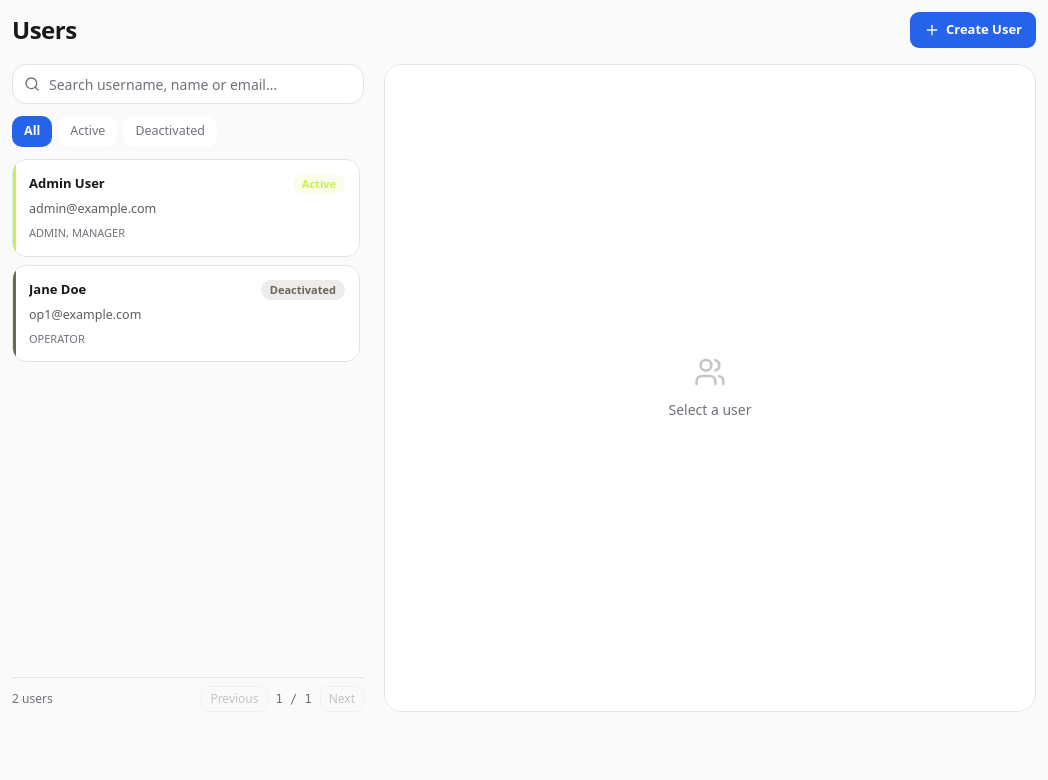
Test: UsersPage › deactivate action is reachable in the pane
Click the button with test id "user-row-uuid-1" at (67, 183), box [12,159,360,257]
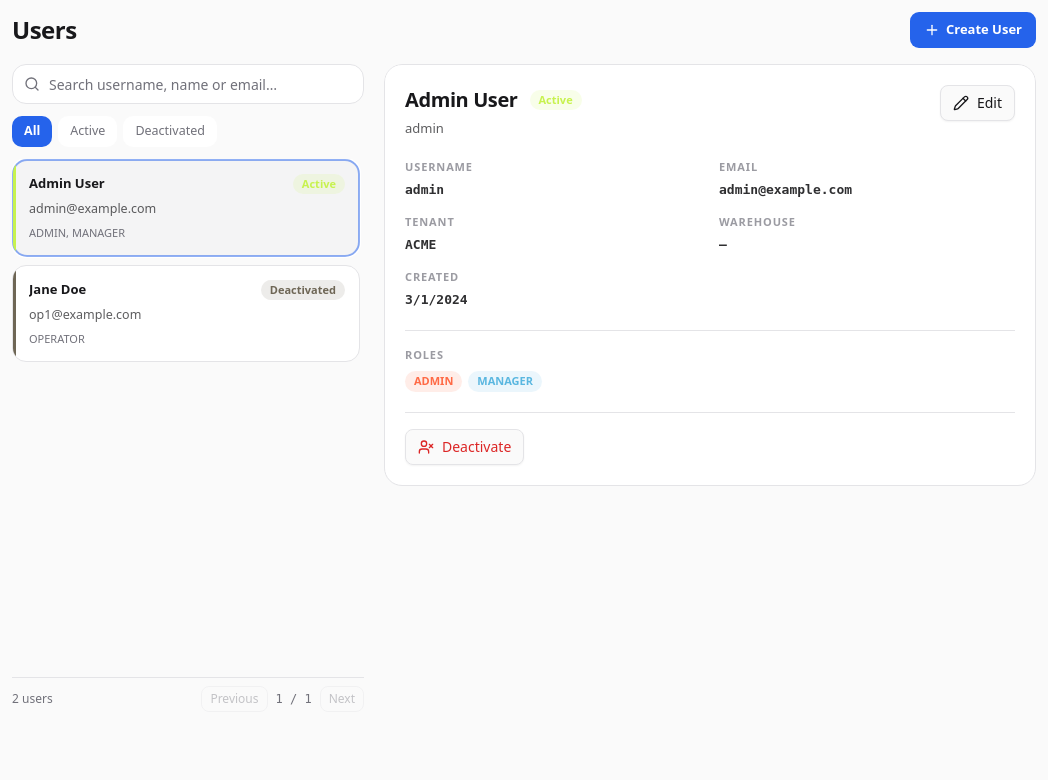
Check: the button with test id "user-deactivate-button" is shown, box [405,428,524,464]
Click the button with test id "user-row-uuid-2" at (58, 289), box [12,264,360,362]
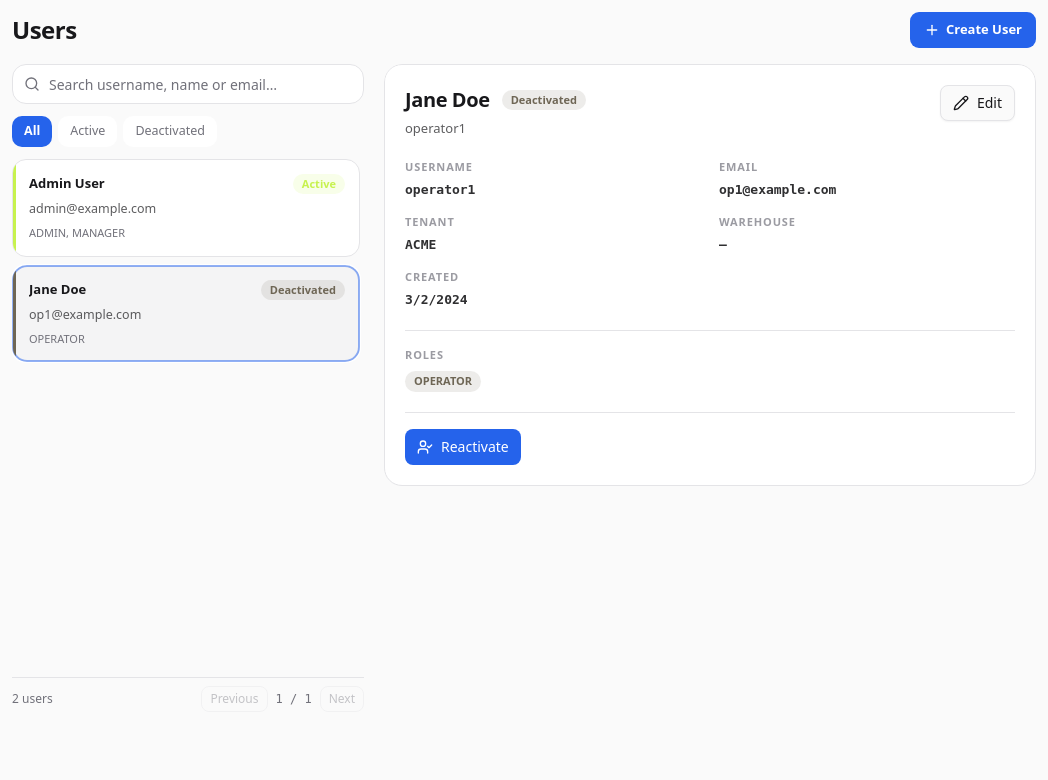
Check: the button with test id "user-reactivate-button" is shown, box [405,428,521,464]
